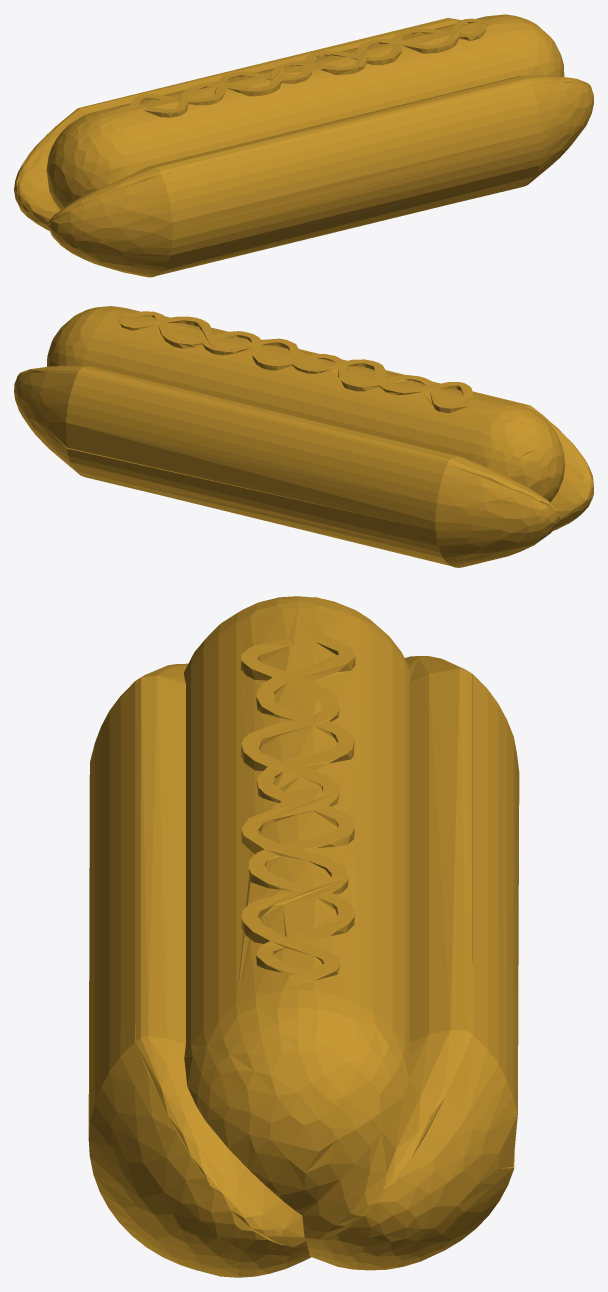
The model's file is goldenHotdog.glb.
The picture shows the model from 3 angles, top to bottom: view 1: azimuth 30°, elevation 25°; view 2: azimuth 150°, elevation 25°; view 3: azimuth 270°, elevation 25°; orthographic projection. The views are drawn at different scales.
Visible parts, largest first — view 1: Mesh_Mesh_head_geo001_lambert2SG001; view 2: Mesh_Mesh_head_geo001_lambert2SG001; view 3: Mesh_Mesh_head_geo001_lambert2SG001.
Boxes of the visible parts, bbox=[...] form: Mesh_Mesh_head_geo001_lambert2SG001: bbox=[14, 14, 593, 277]; Mesh_Mesh_head_geo001_lambert2SG001: bbox=[14, 306, 593, 567]; Mesh_Mesh_head_geo001_lambert2SG001: bbox=[88, 596, 519, 1277].
Bounding box in the file's own units: 146 × 38.59 × 50.45.
